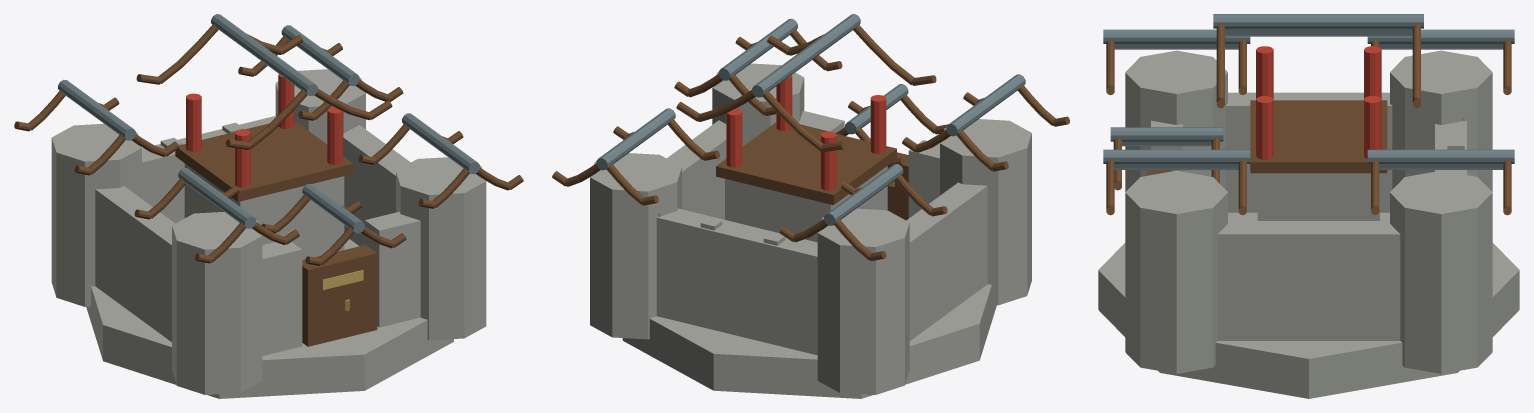
File: field-fort.glb
3 renders of one model, left to right at view 1: azimuth 30°, elevation 25°; view 2: azimuth 150°, elevation 25°; view 3: azimuth 270°, elevation 25°, orthographic. The views are drawn at different scales.
Parts seen in each view (by area): view 1: fort_corner_tower_0, fort_stone_foundation, fort_corner_tower_1, fort_corner_tower_2, fort_wall_west, fort_keep_band, fort_gate, fort_keep, fort_wall_south_right, fort_wall_south_left, fort_wall_east, fort_wall_north (+12 smaller); view 2: fort_wall_north, fort_corner_tower_2, fort_stone_foundation, fort_corner_tower_3, fort_corner_tower_0, fort_wall_west, fort_keep_band, fort_keep, fort_wall_east, fort_corner_tower_1, roof_ridge.004, fort_wall_south_left (+11 smaller); view 3: fort_wall_east, fort_corner_tower_1, fort_corner_tower_3, fort_stone_foundation, fort_corner_tower_2, fort_keep_band, fort_corner_tower_0, fort_keep, fort_wall_west, roof_ridge.004, roof_ridge.001, roof_ridge.003 (+14 smaller).
Boxes of the visible parts, x1,y1,x2,y2 form: fort_corner_tower_0: (172, 212, 262, 394); fort_stone_foundation: (86, 239, 453, 398); fort_corner_tower_1: (396, 157, 486, 340); fort_corner_tower_2: (51, 123, 141, 306); fort_wall_west: (95, 186, 174, 341); fort_keep_band: (175, 120, 353, 201); fort_gate: (302, 245, 377, 346); fort_keep: (184, 163, 344, 259); fort_wall_south_right: (365, 211, 420, 327); fort_wall_south_left: (262, 242, 302, 355); fort_wall_east: (343, 125, 410, 246); fort_wall_north: (142, 116, 276, 223); fort_wall_north: (656, 208, 817, 355); fort_corner_tower_2: (817, 208, 909, 394); fort_stone_foundation: (622, 284, 996, 398); fort_corner_tower_3: (590, 153, 681, 339); fort_corner_tower_0: (940, 119, 1031, 305); fort_wall_west: (906, 182, 987, 340); fort_keep_band: (716, 122, 896, 205); fort_keep: (725, 166, 887, 242); fort_wall_east: (667, 120, 726, 219); fort_corner_tower_1: (712, 63, 804, 146); roof_ridge.004: (752, 14, 860, 97); fort_wall_south_left: (908, 140, 939, 218); fort_wall_east: (1217, 221, 1400, 340); fort_corner_tower_1: (1125, 170, 1227, 373); fort_corner_tower_3: (1390, 170, 1492, 373); fort_stone_foundation: (1098, 212, 1519, 398); fort_corner_tower_2: (1390, 50, 1492, 191); fort_keep_band: (1250, 100, 1387, 173); fort_corner_tower_0: (1125, 50, 1227, 191); fort_keep: (1257, 173, 1379, 220); fort_wall_west: (1225, 92, 1392, 212); roof_ridge.004: (1213, 14, 1423, 28); roof_ridge.001: (1103, 149, 1250, 163); roof_ridge.003: (1367, 149, 1514, 163).
Size of the model in its own units: 0.86 by 0.665 by 0.86.
